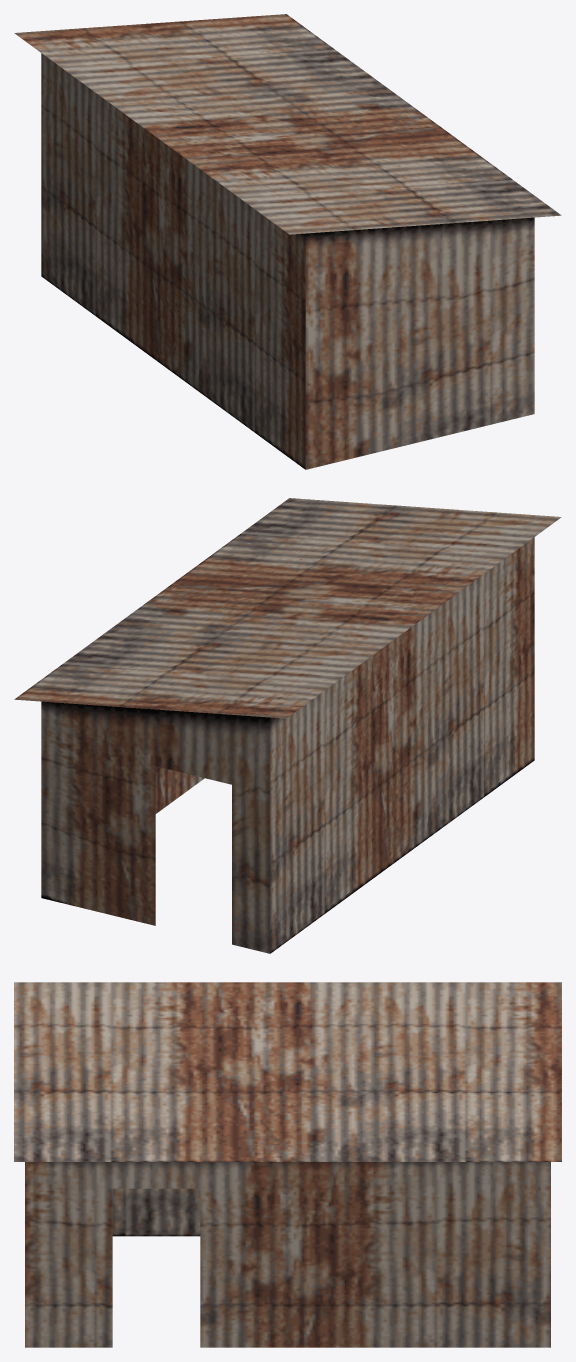
The model's file is Shack A.glb.
3 renders of one model, top to bottom at view 1: azimuth 30°, elevation 25°; view 2: azimuth 150°, elevation 25°; view 3: azimuth 270°, elevation 25°, orthographic.
Visible parts, largest first — view 1: Shack A; view 2: Shack A; view 3: Shack A.
Part boxes in pixels (bbox=[...]): Shack A: bbox=[14, 14, 561, 469]; Shack A: bbox=[14, 498, 561, 953]; Shack A: bbox=[14, 982, 561, 1347].
Size of the model in its own units: 3.57 by 3.06 by 6.25.
Materials: 1 (1 with a texture image).
